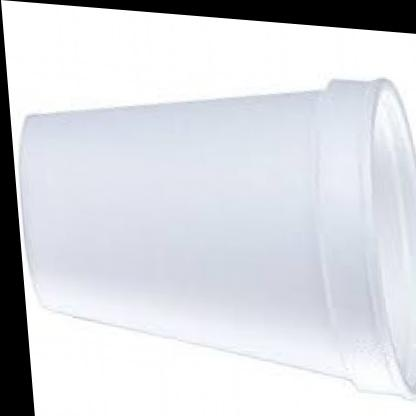trash: (20, 79, 415, 396)
